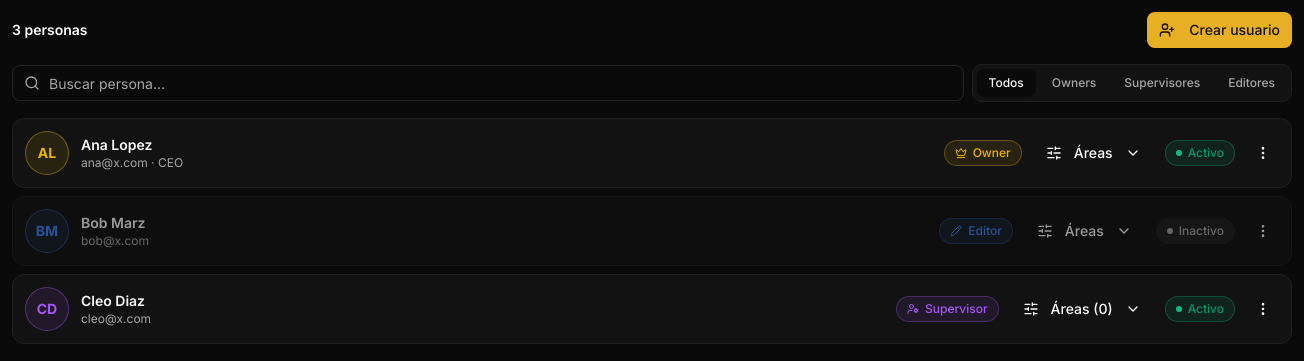
Test: UserAdminTable › filters by role segment
This screenshot has width=1304, height=361.
Click the button "Owners": {"x": 1074, "y": 83} 1040,69 -> 1108,97
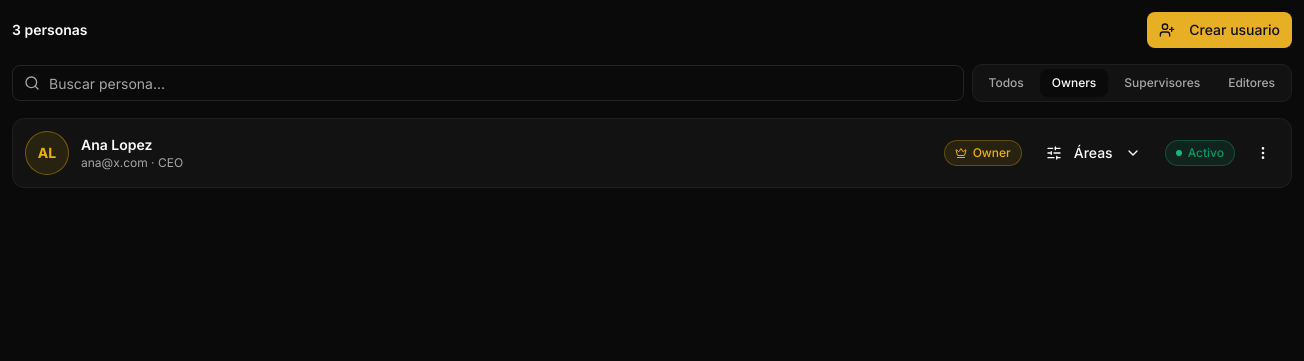
Expected: the text "Ana Lopez" is shown, 81,136 -> 152,153
Now the text "Bob Marz" is gone
Now the text "Cleo Diaz" is gone
